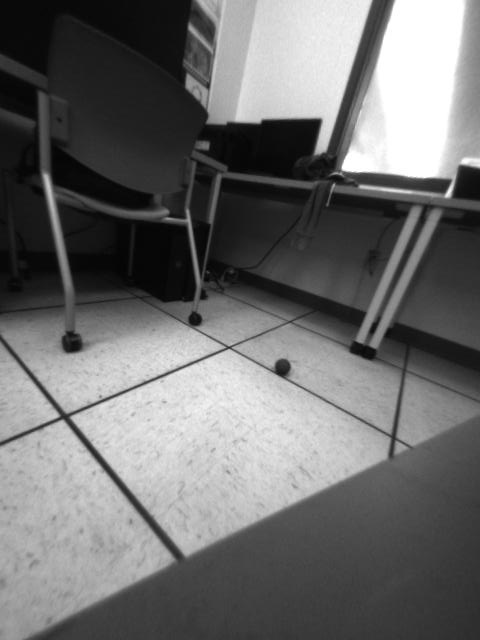dogtoy: (267, 351, 296, 380)
